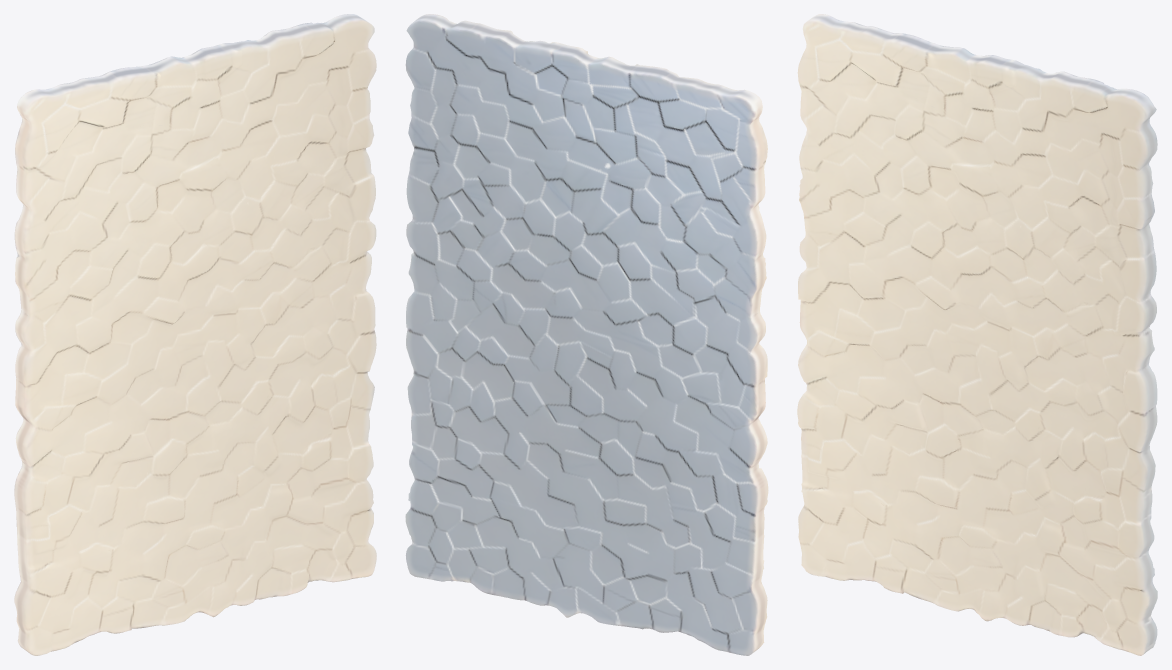
The model's file is 大地毯 (3).fbx.
3 renders of one model, left to right at view 1: azimuth 30°, elevation 25°; view 2: azimuth 150°, elevation 25°; view 3: azimuth 330°, elevation 25°, orthographic.
Visible parts, largest first — view 1: model; view 2: model; view 3: model.
Part boxes in pixels (<box>): model: <box>14,14,376,655</box>; model: <box>405,14,768,655</box>; model: <box>797,14,1157,655</box>.
Size of the model in its own units: 116 by 177 by 6.8.
